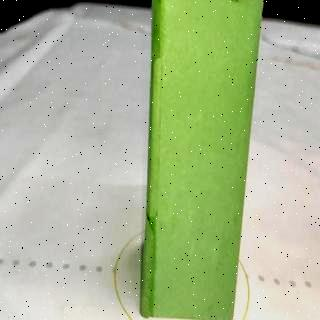greenbox: (140, 0, 264, 320)
